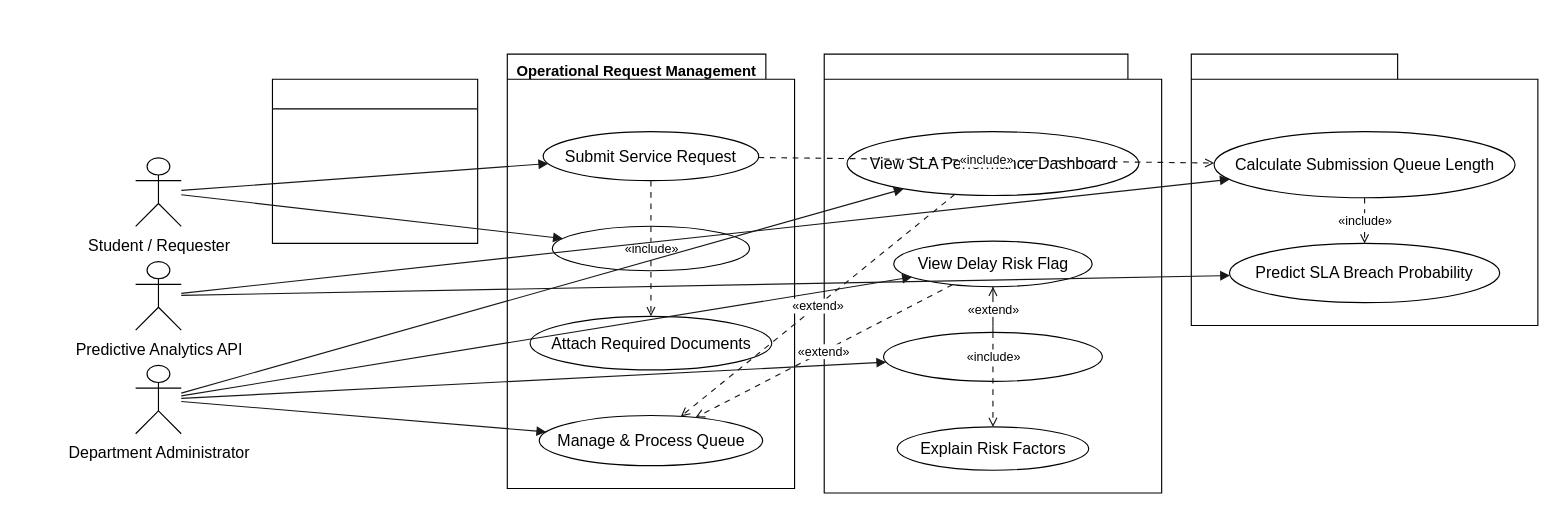
Some shapes in this 1557 by 513 pixel diagram are drawn without their labels. Each missing label, with the box of its shape:
Automated Services: (1190, 53, 1538, 325)
Decision Support & Analytics (Part V): (823, 53, 1162, 493)
Override High-Risk Alert: (882, 331, 1102, 381)
Student Service Request Monitoring System: (271, 78, 478, 243)
Track Request Status: (551, 225, 750, 271)
